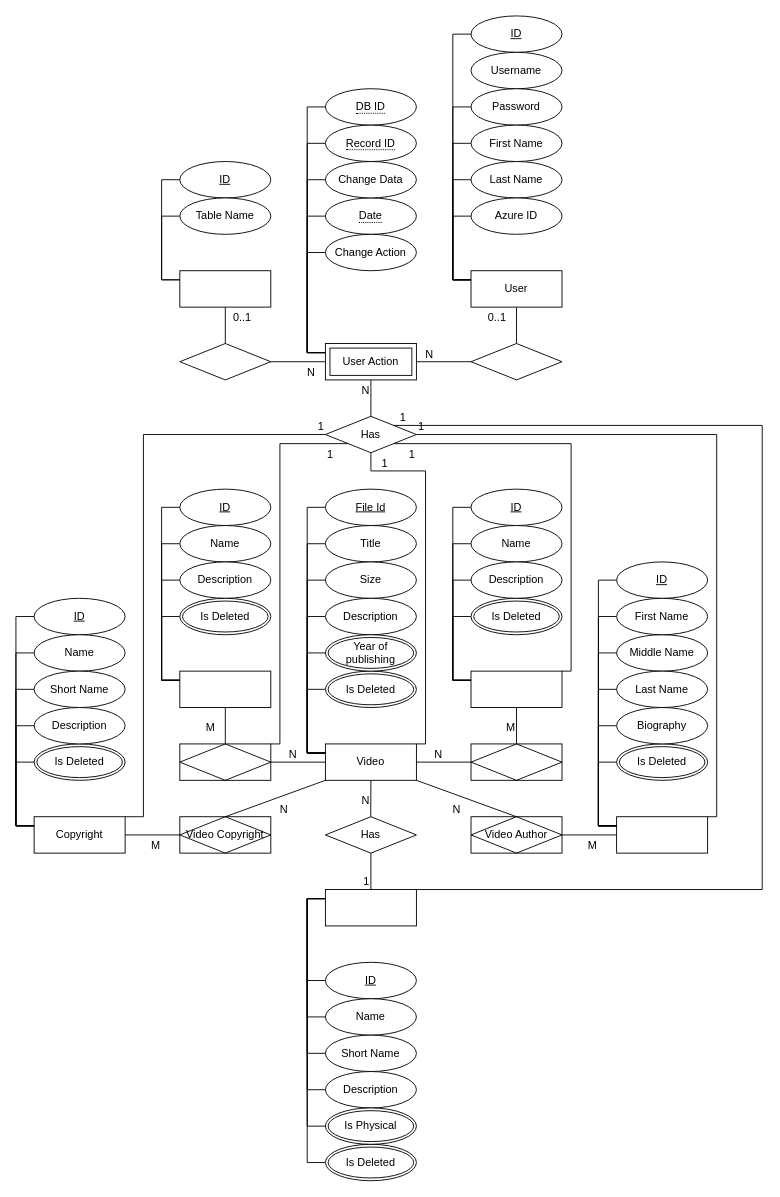
The diagram is 780 pixels wide and 1197 high, and some of its shapes have lost their labels. Here are the shapes that lost their labels. From the top down, the centre of each, then its label:
At (225,288): "DB Schema".
At (225,361): "On".
At (516,361): "Makes".
At (225,689): "Genre".
At (516,689): "Tag".
At (225,761): "Video Genre".
At (516,761): "Video Tag".
At (662,834): "Author".
At (370,907): "Format".
